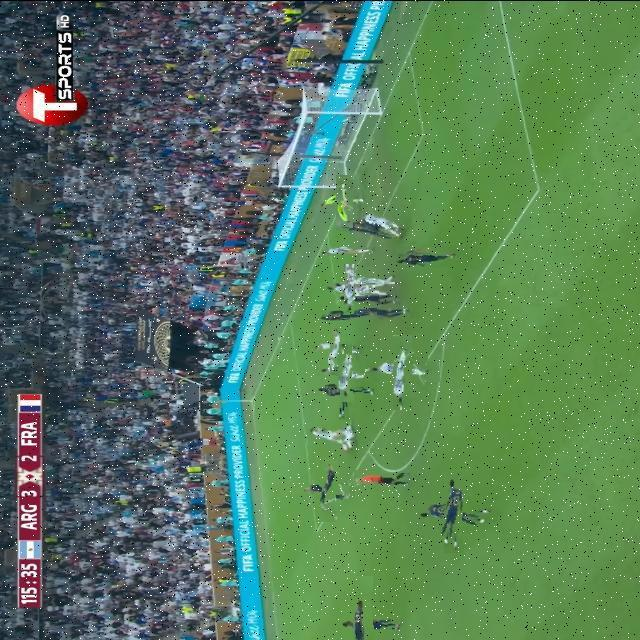goalkeeper: (326, 182, 363, 220)
player: (426, 486, 481, 540), (333, 592, 392, 640), (378, 346, 428, 396), (396, 244, 479, 269), (309, 469, 352, 511), (356, 213, 418, 238), (325, 369, 364, 407), (327, 352, 365, 390), (318, 332, 352, 365), (312, 308, 378, 325), (296, 424, 355, 443), (340, 289, 402, 307), (334, 272, 366, 305), (341, 222, 394, 238), (316, 246, 372, 254)
referee: (354, 471, 410, 487)
